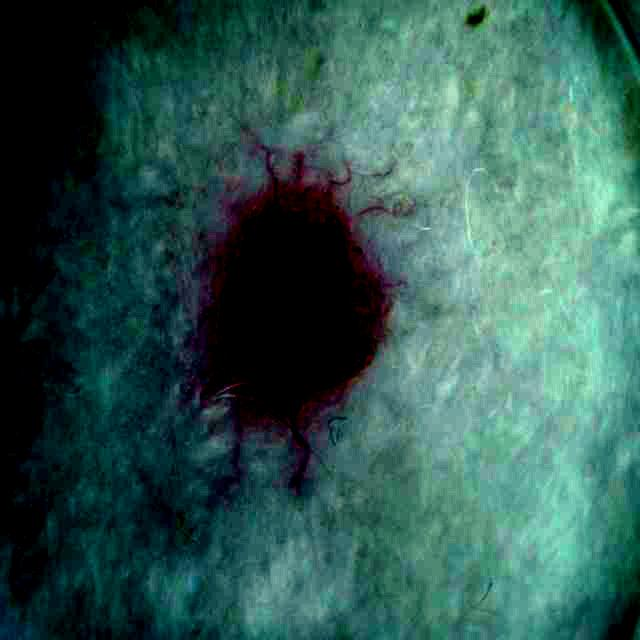VASC: (225, 213, 370, 409)
